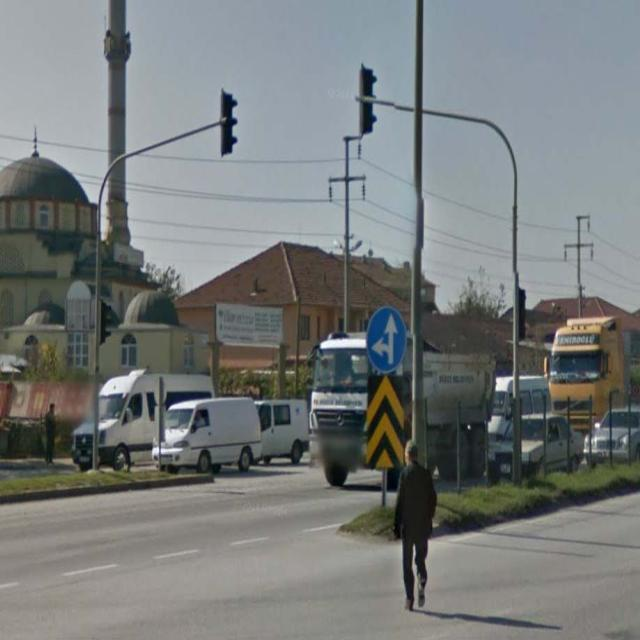ilerisol: (365, 304, 403, 373)
